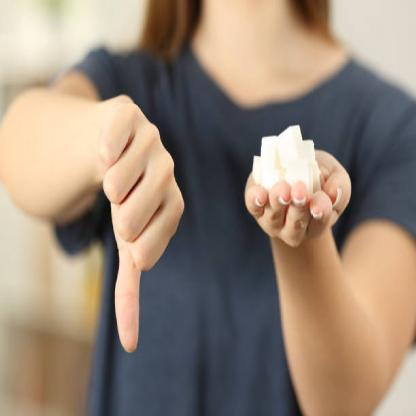thumb_down: (98, 96, 186, 356)
